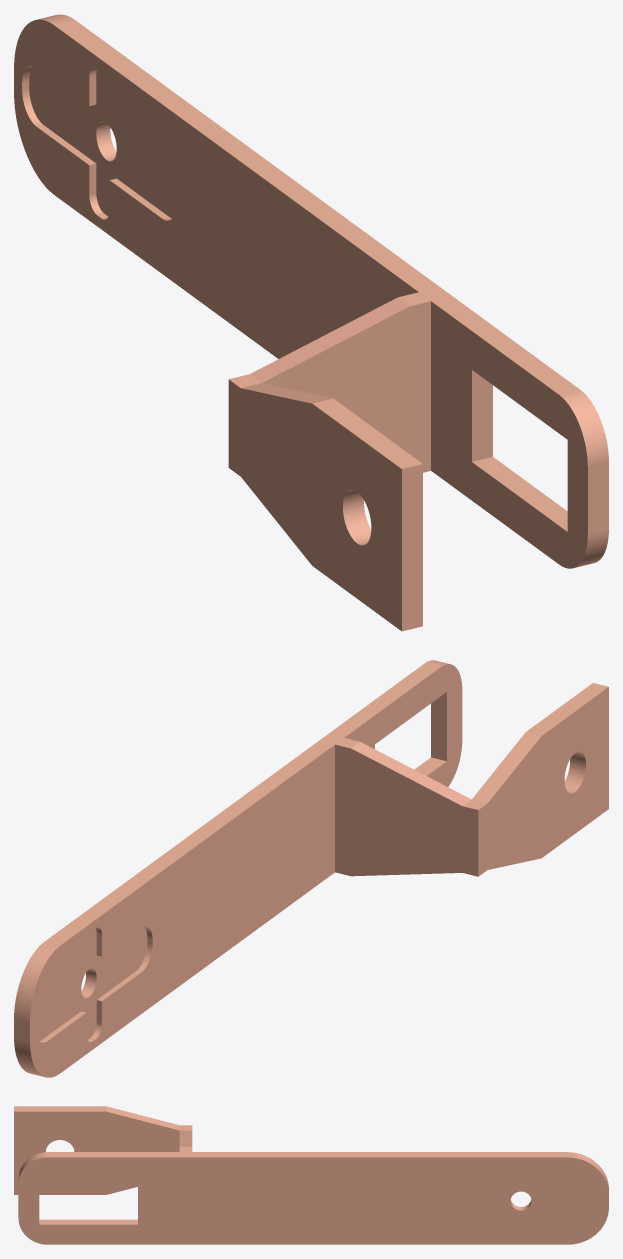
3 renders of one model, top to bottom at view 1: azimuth 30°, elevation 25°; view 2: azimuth 150°, elevation 25°; view 3: azimuth 270°, elevation 25°, orthographic. The views are drawn at different scales.
Parts seen in each view (by area): view 1: mesh226, mesh223, mesh209, mesh212, mesh211, mesh227, mesh219, mesh214, mesh220, mesh206, mesh208, mesh205 (+2 smaller); view 2: mesh226, mesh215, mesh223, mesh211, mesh227, mesh209, mesh201, mesh214, mesh221, mesh220, mesh203, mesh225 (+1 smaller); view 3: mesh198, mesh224, mesh211, mesh206, mesh220, mesh221, mesh201, mesh214.
Boxes of the visible parts, left/top/right/bottom form: mesh226: left=14, top=19, right=418, bottom=358; mesh223: left=228, top=379, right=401, bottom=631; mesh209: left=431, top=301, right=587, bottom=568; mesh212: left=262, top=301, right=430, bottom=472; mesh211: left=55, top=20, right=579, bottom=394; mesh227: left=29, top=66, right=176, bottom=218; mesh219: left=402, top=464, right=422, bottom=631; mesh214: left=250, top=297, right=409, bottom=382; mesh220: left=313, top=398, right=422, bottom=468; mesh206: left=472, top=457, right=567, bottom=531; mesh208: left=560, top=390, right=608, bottom=467; mesh205: left=472, top=370, right=492, bottom=461; mesh226: left=30, top=745, right=334, bottom=1077; mesh215: left=335, top=744, right=478, bottom=876; mesh223: left=478, top=687, right=608, bottom=876; mesh211: left=44, top=663, right=440, bottom=945; mesh227: left=36, top=926, right=147, bottom=1041; mesh209: left=344, top=664, right=462, bottom=786; mesh201: left=14, top=942, right=59, bottom=1022; mesh214: left=351, top=742, right=471, bottom=805; mesh221: left=472, top=732, right=541, bottom=803; mesh220: left=526, top=683, right=608, bottom=735; mesh203: left=431, top=692, right=446, bottom=761; mesh225: left=564, top=751, right=585, bottom=793; mesh198: left=18, top=1157, right=608, bottom=1244; mesh224: left=14, top=1111, right=179, bottom=1194; mesh211: left=47, top=1146, right=567, bottom=1157; mesh206: left=39, top=1219, right=137, bottom=1224; mesh220: left=14, top=1106, right=105, bottom=1111; mesh221: left=106, top=1106, right=179, bottom=1130; mesh201: left=567, top=1152, right=608, bottom=1191; mesh214: left=179, top=1130, right=192, bottom=1146.
Bounding box in the file's own units: 0.03 × 0.023 × 0.1421.
